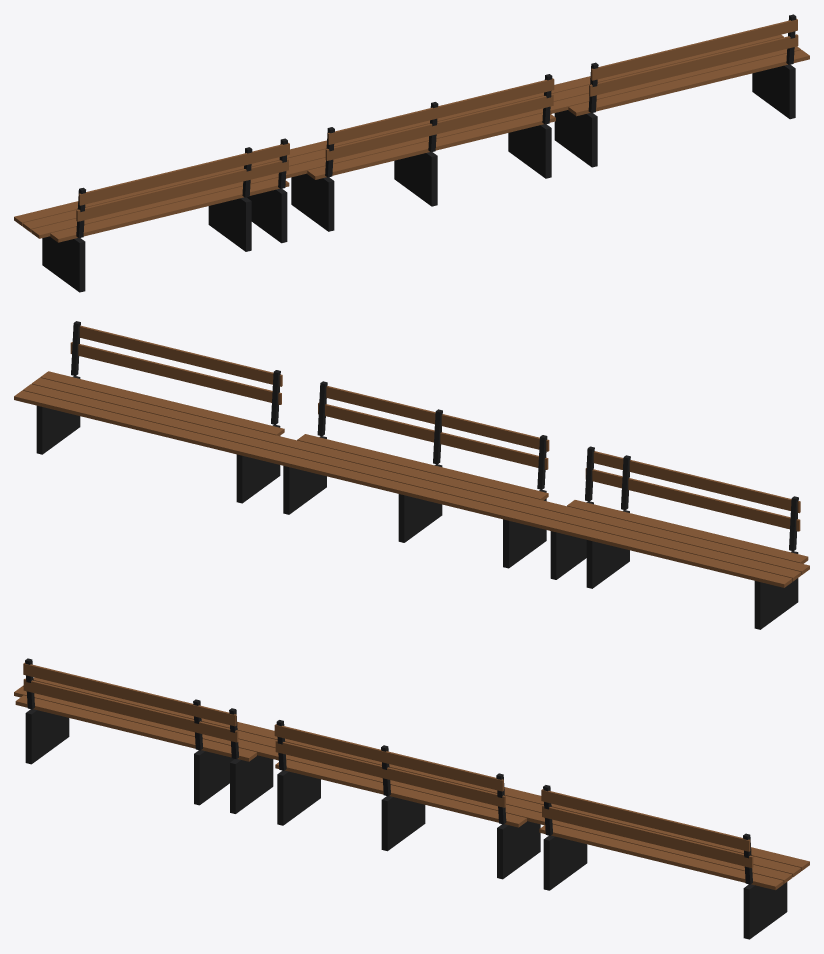
3 renders of one model, top to bottom at view 1: azimuth 30°, elevation 25°; view 2: azimuth 150°, elevation 25°; view 3: azimuth 330°, elevation 25°, orthographic.
Visible parts, largest first — view 1: parametric-variant-bench-3rd-e84dceb45d3eac9a781a; view 2: parametric-variant-bench-3rd-e84dceb45d3eac9a781a; view 3: parametric-variant-bench-3rd-e84dceb45d3eac9a781a.
Part boxes in pixels (box(x1,y1,x2,y2)): parametric-variant-bench-3rd-e84dceb45d3eac9a781a: box(14, 14, 809, 292); parametric-variant-bench-3rd-e84dceb45d3eac9a781a: box(14, 321, 809, 629); parametric-variant-bench-3rd-e84dceb45d3eac9a781a: box(14, 658, 809, 939).
Size of the model in its own units: 6.6 by 0.85 by 0.6174.
